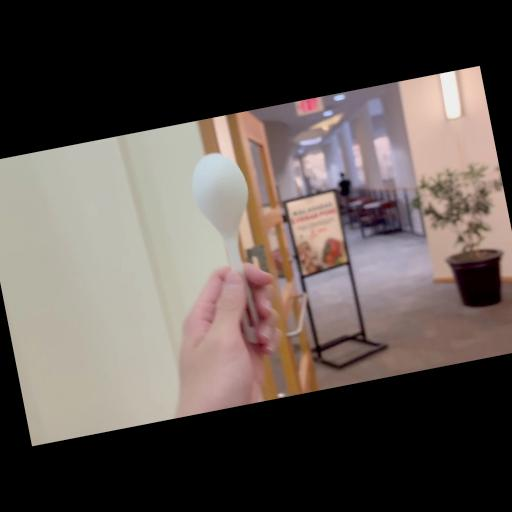utensil: (184, 146, 278, 354)
